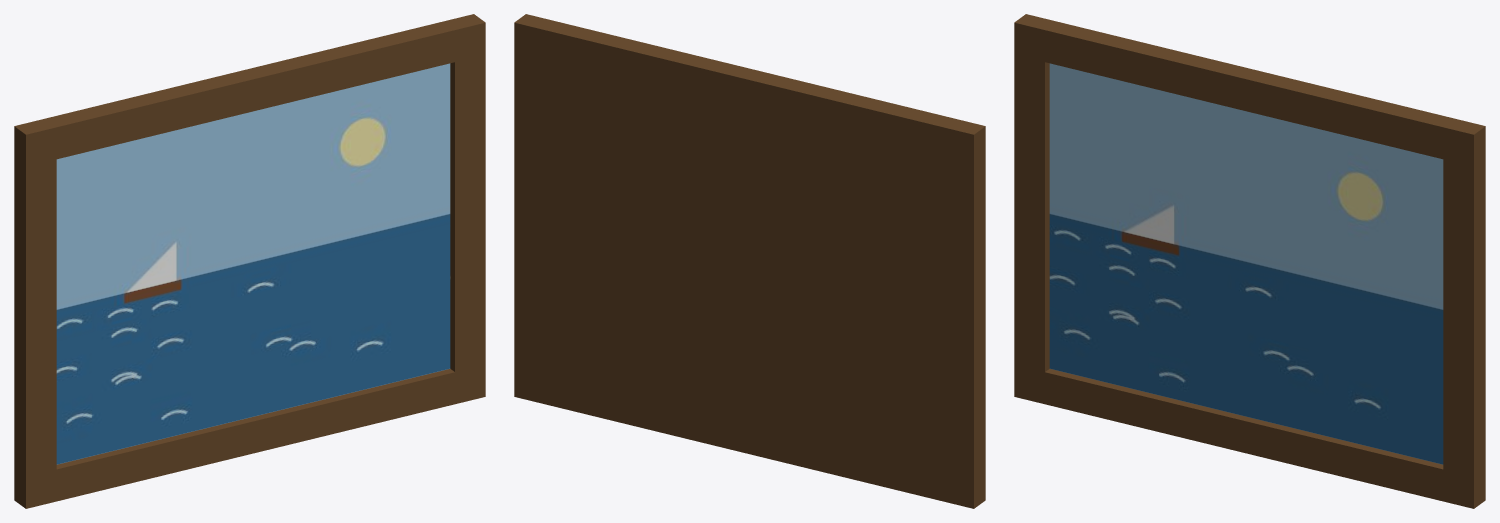
Rendered from painting_sea.glb.
3 views of the same model, side by side, from view 1: azimuth 30°, elevation 25°; view 2: azimuth 150°, elevation 25°; view 3: azimuth 330°, elevation 25° (orthographic).
Visible parts, largest first — view 1: painting; view 2: painting; view 3: painting.
Part boxes in pixels (x1=…): painting: x1=14, y1=14, x2=485, y2=508; painting: x1=514, y1=14, x2=985, y2=508; painting: x1=1014, y1=14, x2=1485, y2=508.
Bounding box in the file's own units: 0.9 × 0.7 × 0.04.
2 materials, 1 textured.
